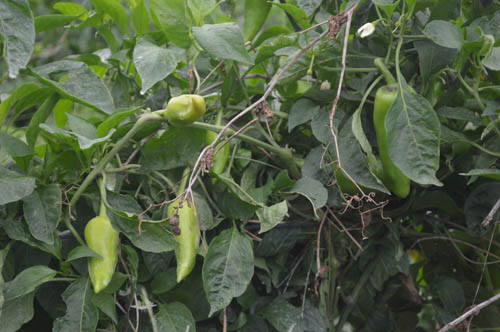ChiliPepper: (379, 89, 410, 195), (83, 219, 119, 293), (169, 200, 200, 282), (165, 97, 205, 123), (209, 132, 226, 181)
